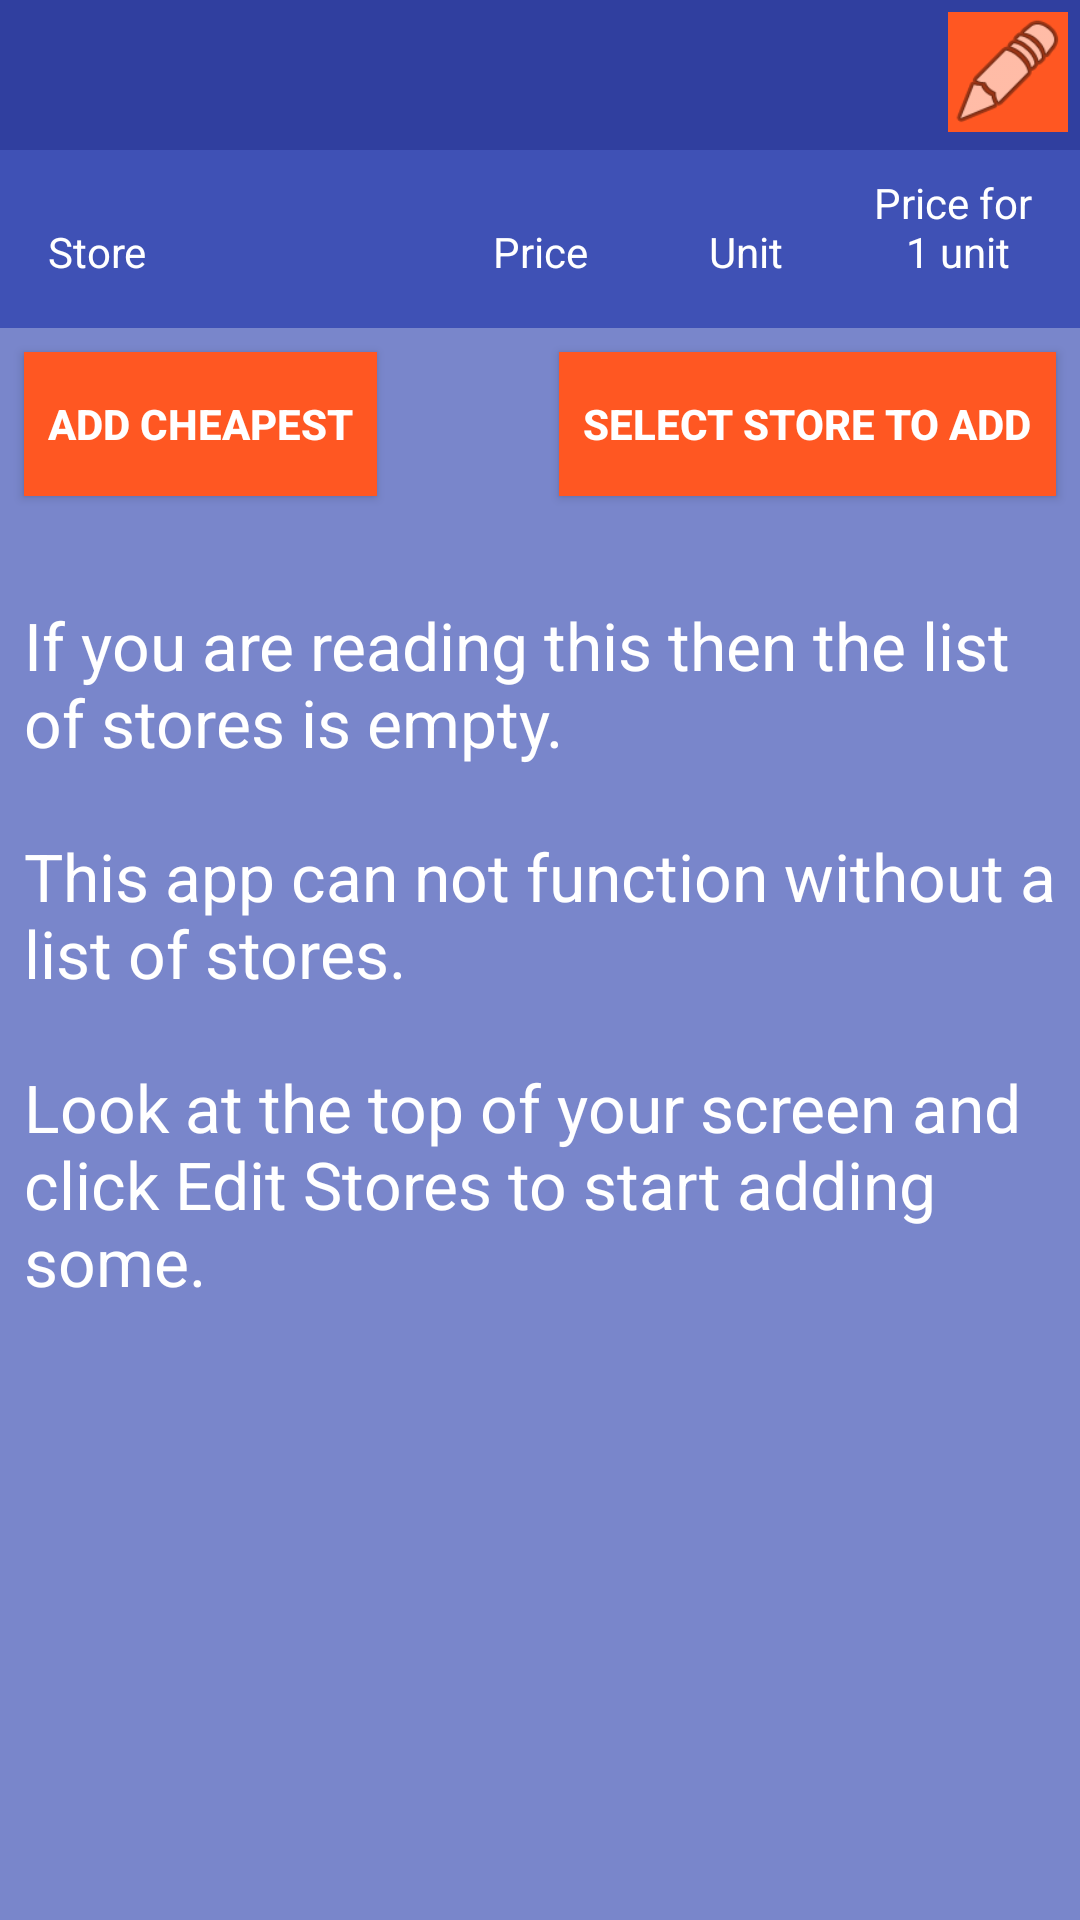

Locate icon controls on the screen. Image size 1080 x 1920, boxes as rect(x1, y1, x2, y2).
edit: rect(948, 12, 1068, 132)
